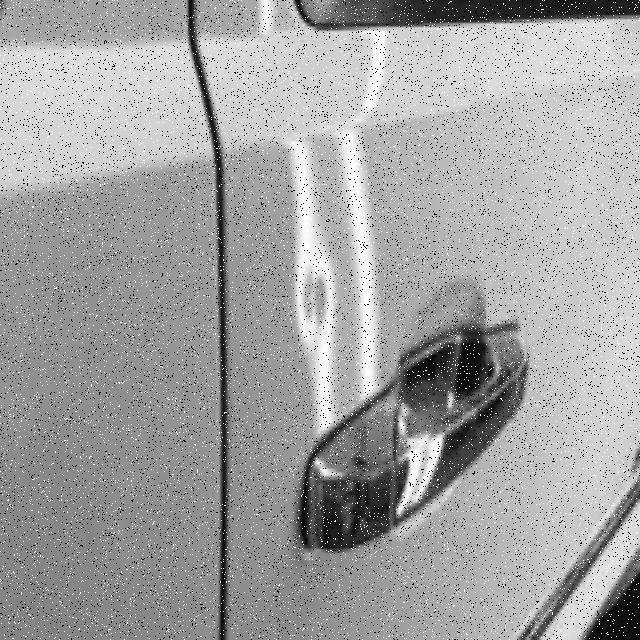doorouter-dent: (223, 0, 638, 598)
